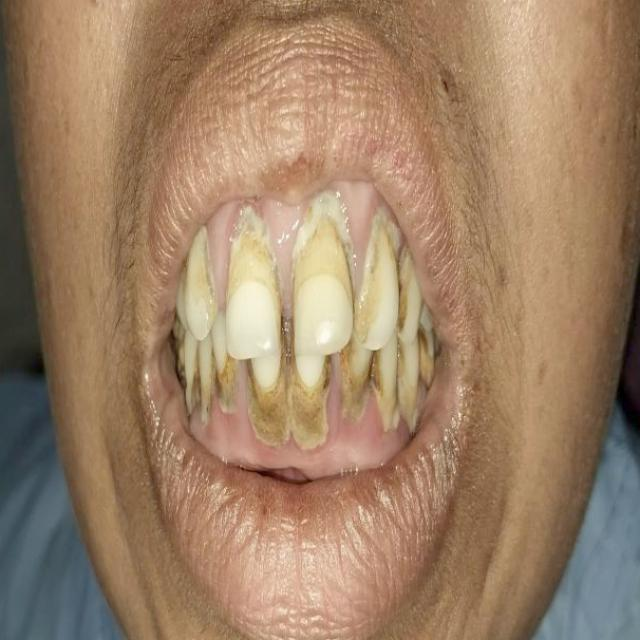CALCULUS: (289, 190, 353, 264), (288, 357, 336, 447), (243, 373, 285, 455), (229, 206, 275, 256), (343, 372, 372, 434), (363, 215, 393, 270), (216, 361, 240, 427), (374, 392, 401, 438), (403, 384, 420, 438), (200, 386, 213, 432)
